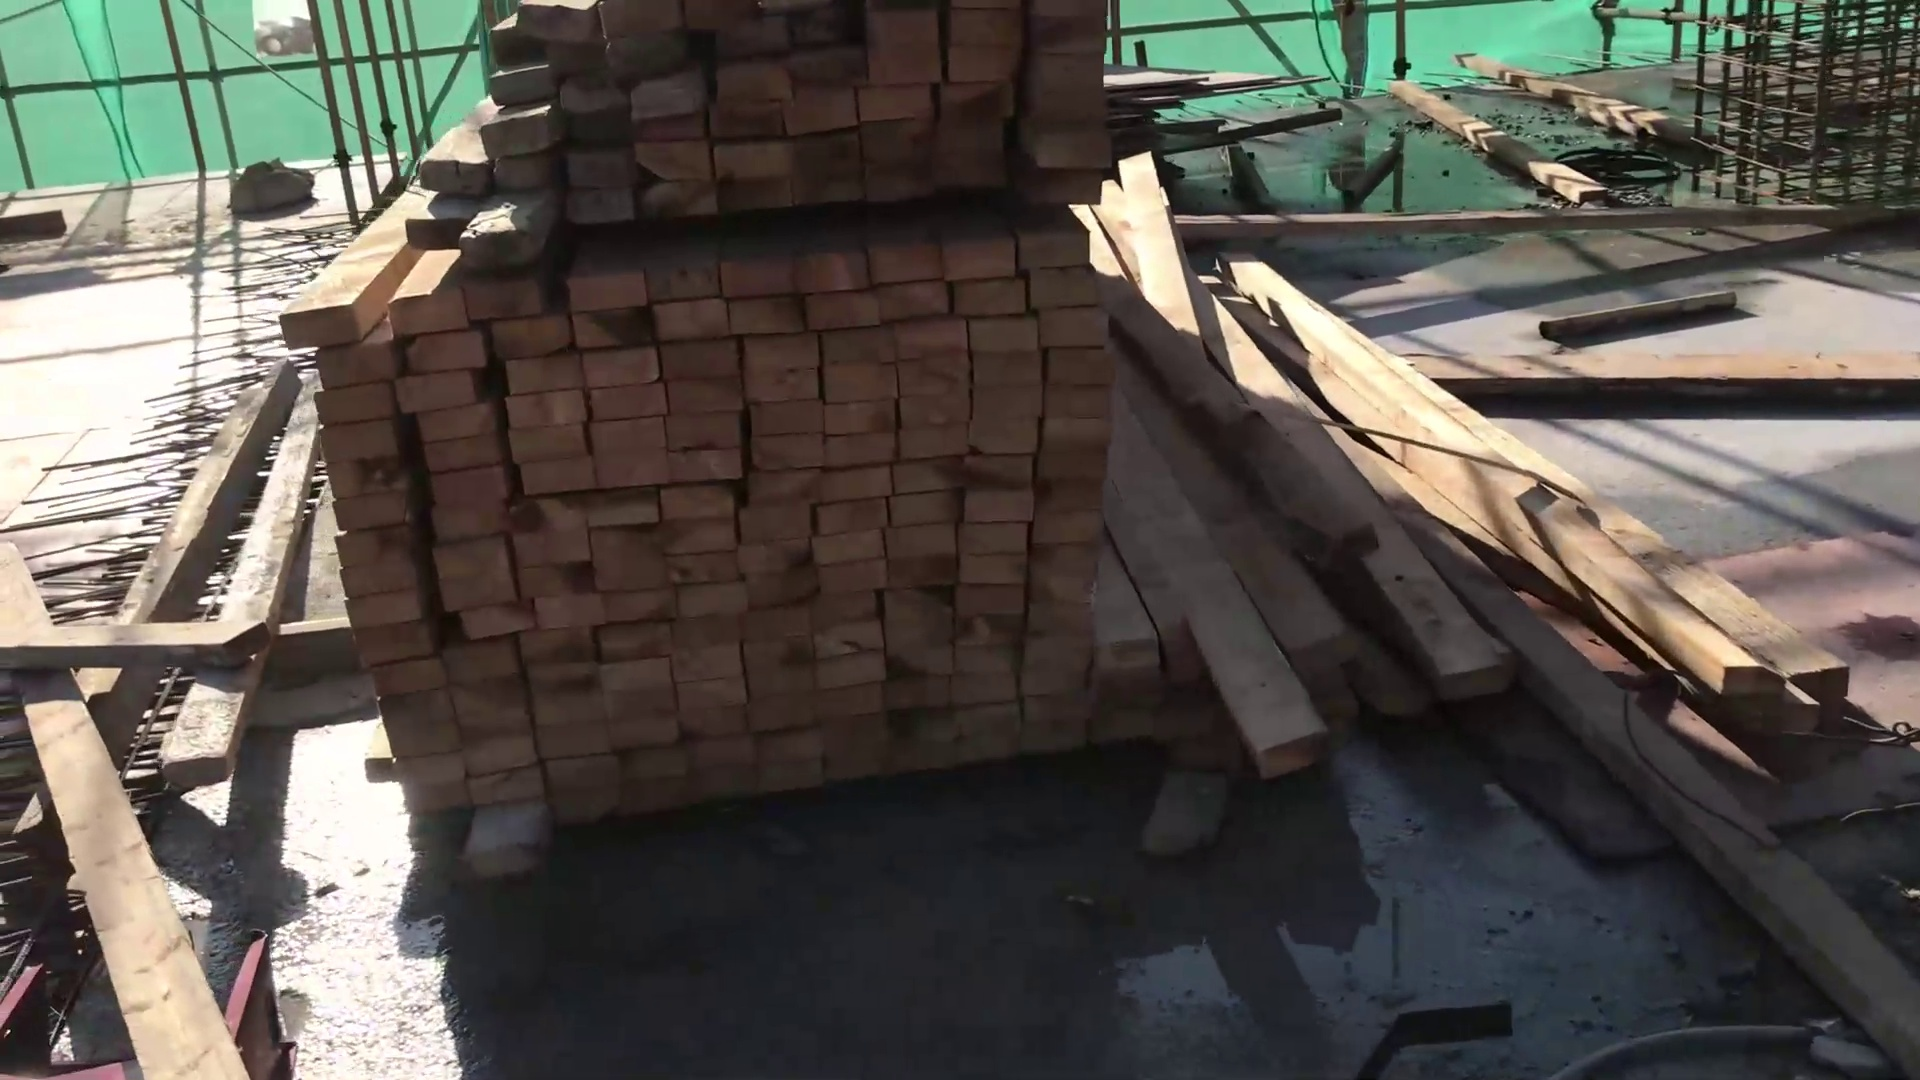wood: (280, 200, 1379, 916), (401, 1, 1153, 262)
